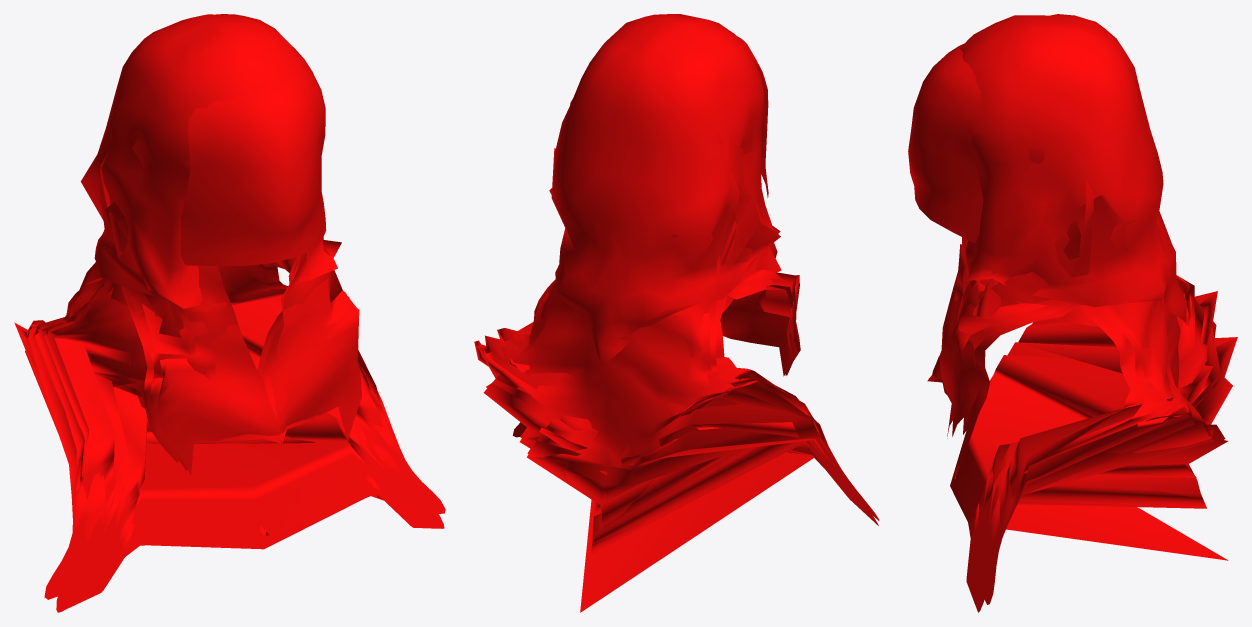
Rendered from punkduck_alpha7_long_F.glb.
3 renders of one model, left to right at view 1: azimuth 30°, elevation 25°; view 2: azimuth 150°, elevation 25°; view 3: azimuth 270°, elevation 25°, orthographic. The views are drawn at different scales.
Bounding box in the file's own units: 0.4678 × 0.6324 × 0.351.
1 material, 1 textured.
